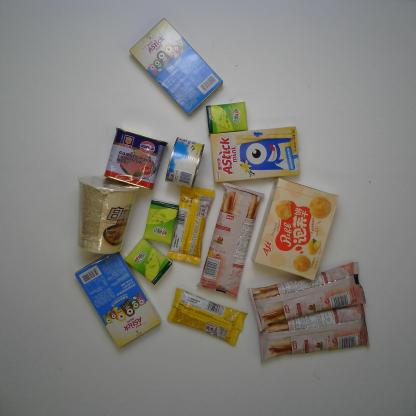Canned Food: (103, 126, 169, 190), (165, 136, 205, 188)
Chocolate: (166, 287, 248, 347), (167, 184, 216, 265)
Dessert: (128, 17, 224, 116), (250, 177, 341, 281), (247, 261, 368, 333), (73, 252, 163, 348), (195, 181, 265, 298), (258, 302, 370, 364), (210, 126, 301, 183)
Instant Noodles: (74, 175, 140, 255)
Tissue: (124, 238, 172, 286), (142, 198, 180, 242), (205, 101, 248, 135)
